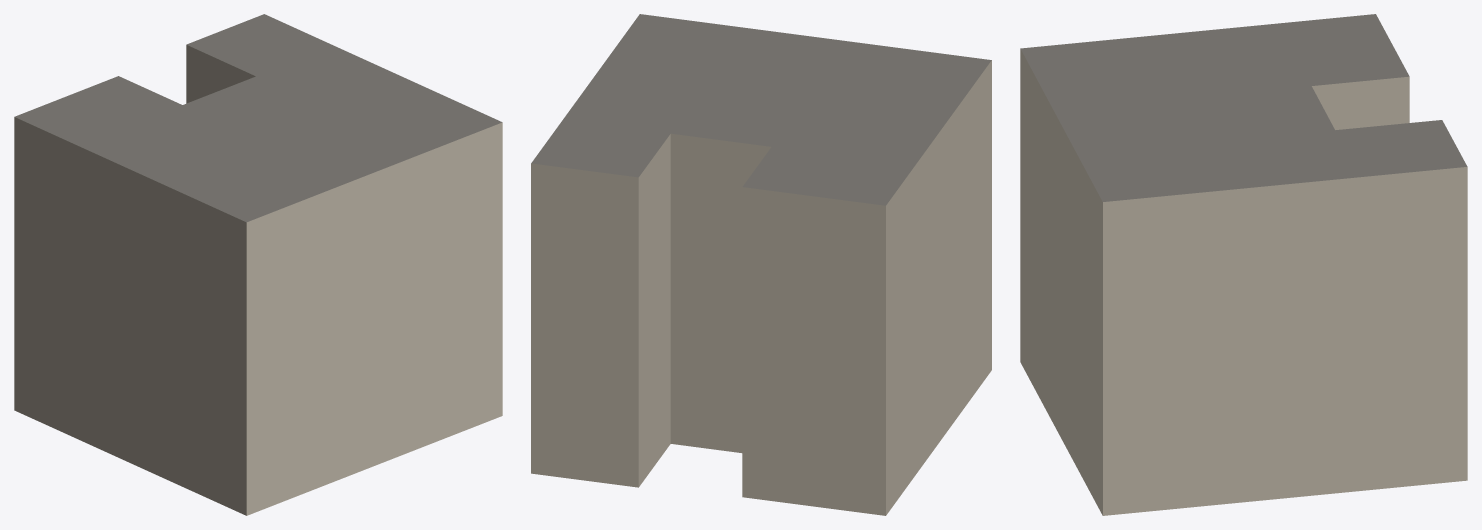
The picture shows the model from 3 angles, left to right: view 1: azimuth 30°, elevation 25°; view 2: azimuth 150°, elevation 25°; view 3: azimuth 270°, elevation 25°; orthographic projection. The views are drawn at different scales.
Parts seen in each view (by area): view 1: HP-w303313601; view 2: HP-w303313601; view 3: HP-w303313601.
Boxes of the visible parts, <box> form: HP-w303313601: <box>14,14,502,515</box>; HP-w303313601: <box>531,14,991,515</box>; HP-w303313601: <box>1020,14,1467,515</box>.
Size of the model in its own units: 19.29 by 15 by 19.37.
